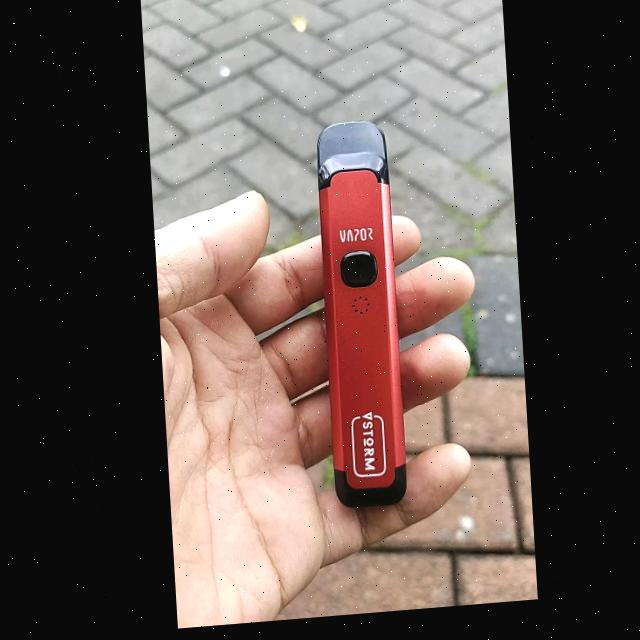vape: (311, 127, 401, 513)
